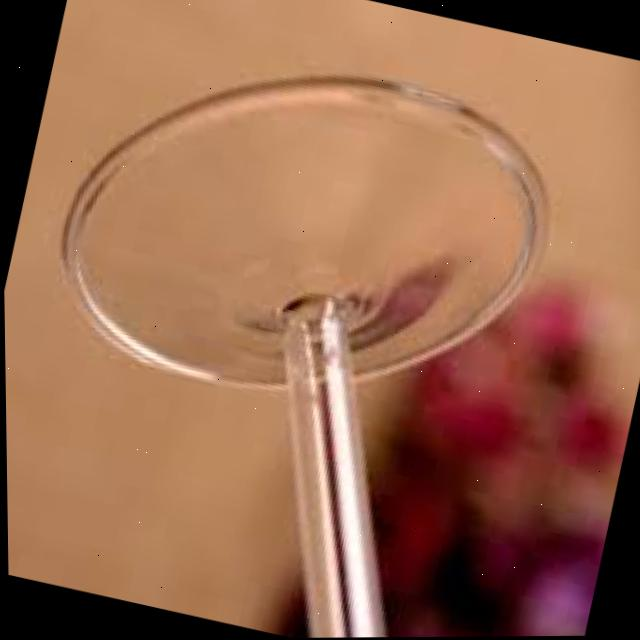Dry: (0, 7, 588, 640)
